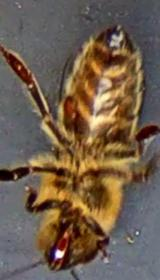varroa_mite: (54, 88, 90, 127)
